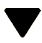dialog_hint: (4, 6, 41, 38)
